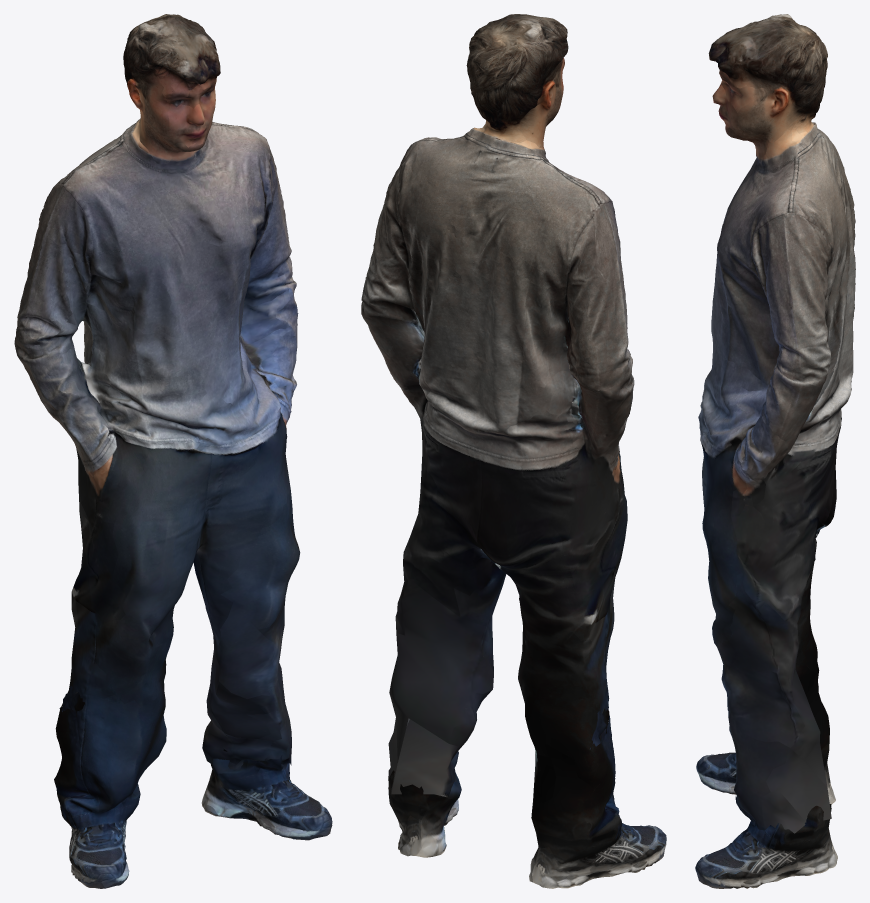
The model's file is Vittorio.glb.
3 views of the same model, side by side, from view 1: azimuth 30°, elevation 25°; view 2: azimuth 150°, elevation 25°; view 3: azimuth 270°, elevation 25° (orthographic). The views are drawn at different scales.
Visible parts, largest first — view 1: Vittorio; view 2: Vittorio; view 3: Vittorio.
Boxes of the visible parts, bbox=[...] form: Vittorio: bbox=[14, 14, 332, 888]; Vittorio: bbox=[361, 14, 666, 888]; Vittorio: bbox=[695, 14, 855, 888].
Size of the model in its own units: 0.8036 by 2.37 by 0.4286.
Materials: 1 (1 with a texture image).
